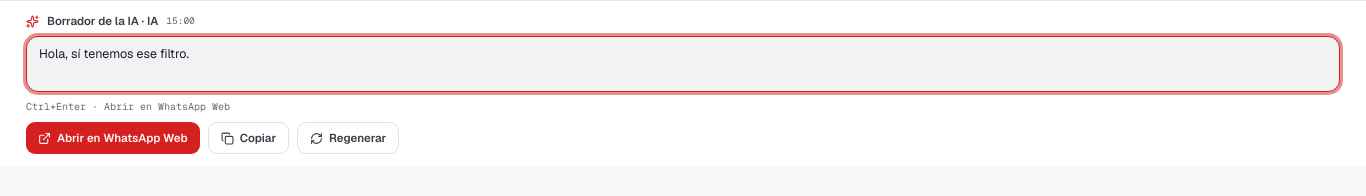
Test: TarjetaBorrador — navegador › si el portapapeles falla lo dice y no marca usado
The width and height of the screenshot is (1366, 196).
Click the button "Copiar".
click(248, 138)  # box [208,122,289,154]
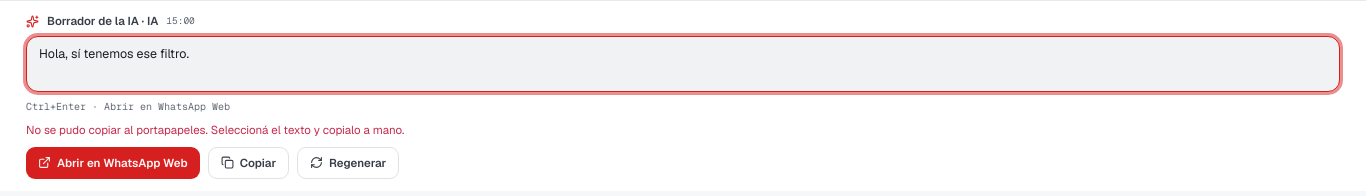
Now the text "No se pudo copiar al portapapeles. Seleccioná el texto y copialo a mano." is shown, box [26,122,404,137]
